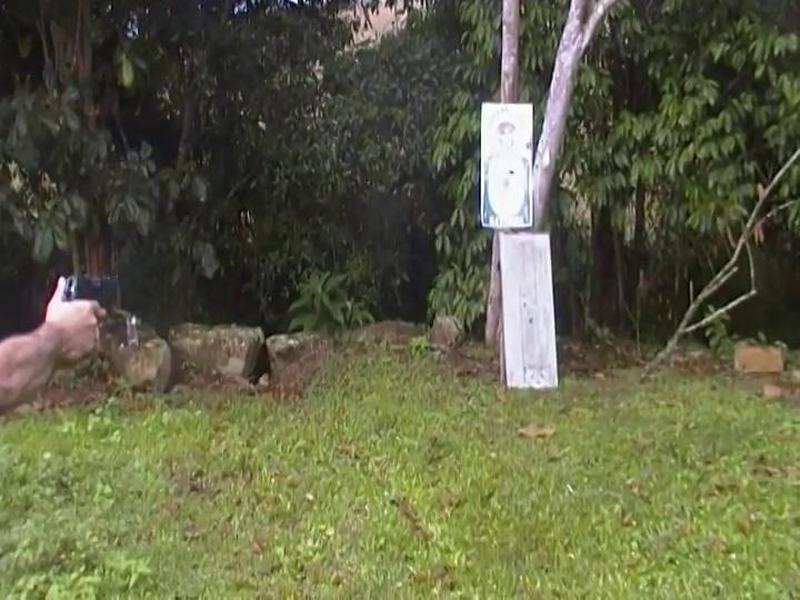Pistola: (42, 247, 140, 326)
